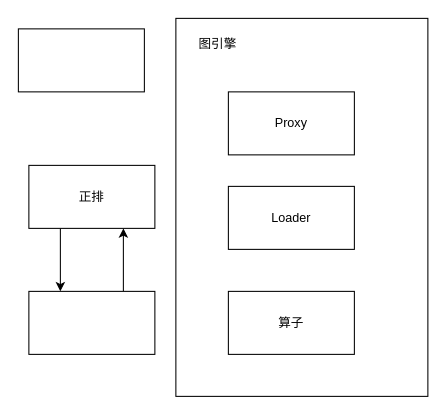
The diagram is 446 pixels wide and 415 high, and some of its shapes have lost their labels. The box of each missing label's shape, as (x1, y1, x2, y2) in pixels:
DSL解析: (17, 28, 144, 92)
缓存: (28, 290, 155, 354)
